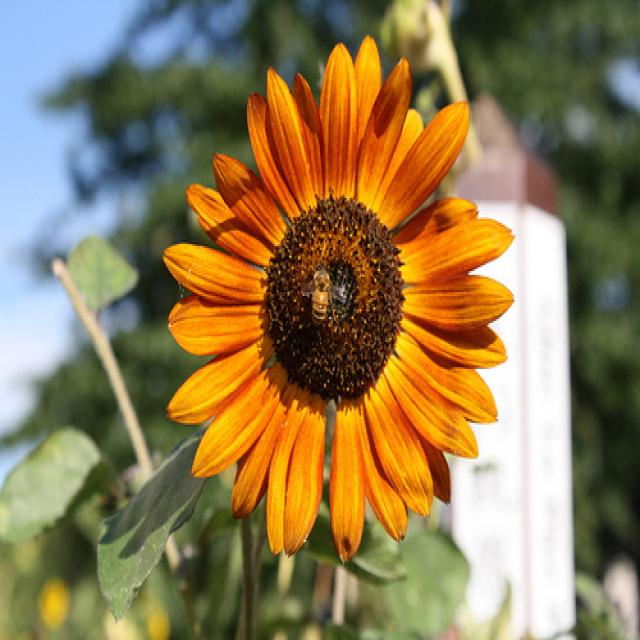sunflower: (159, 29, 519, 565)
